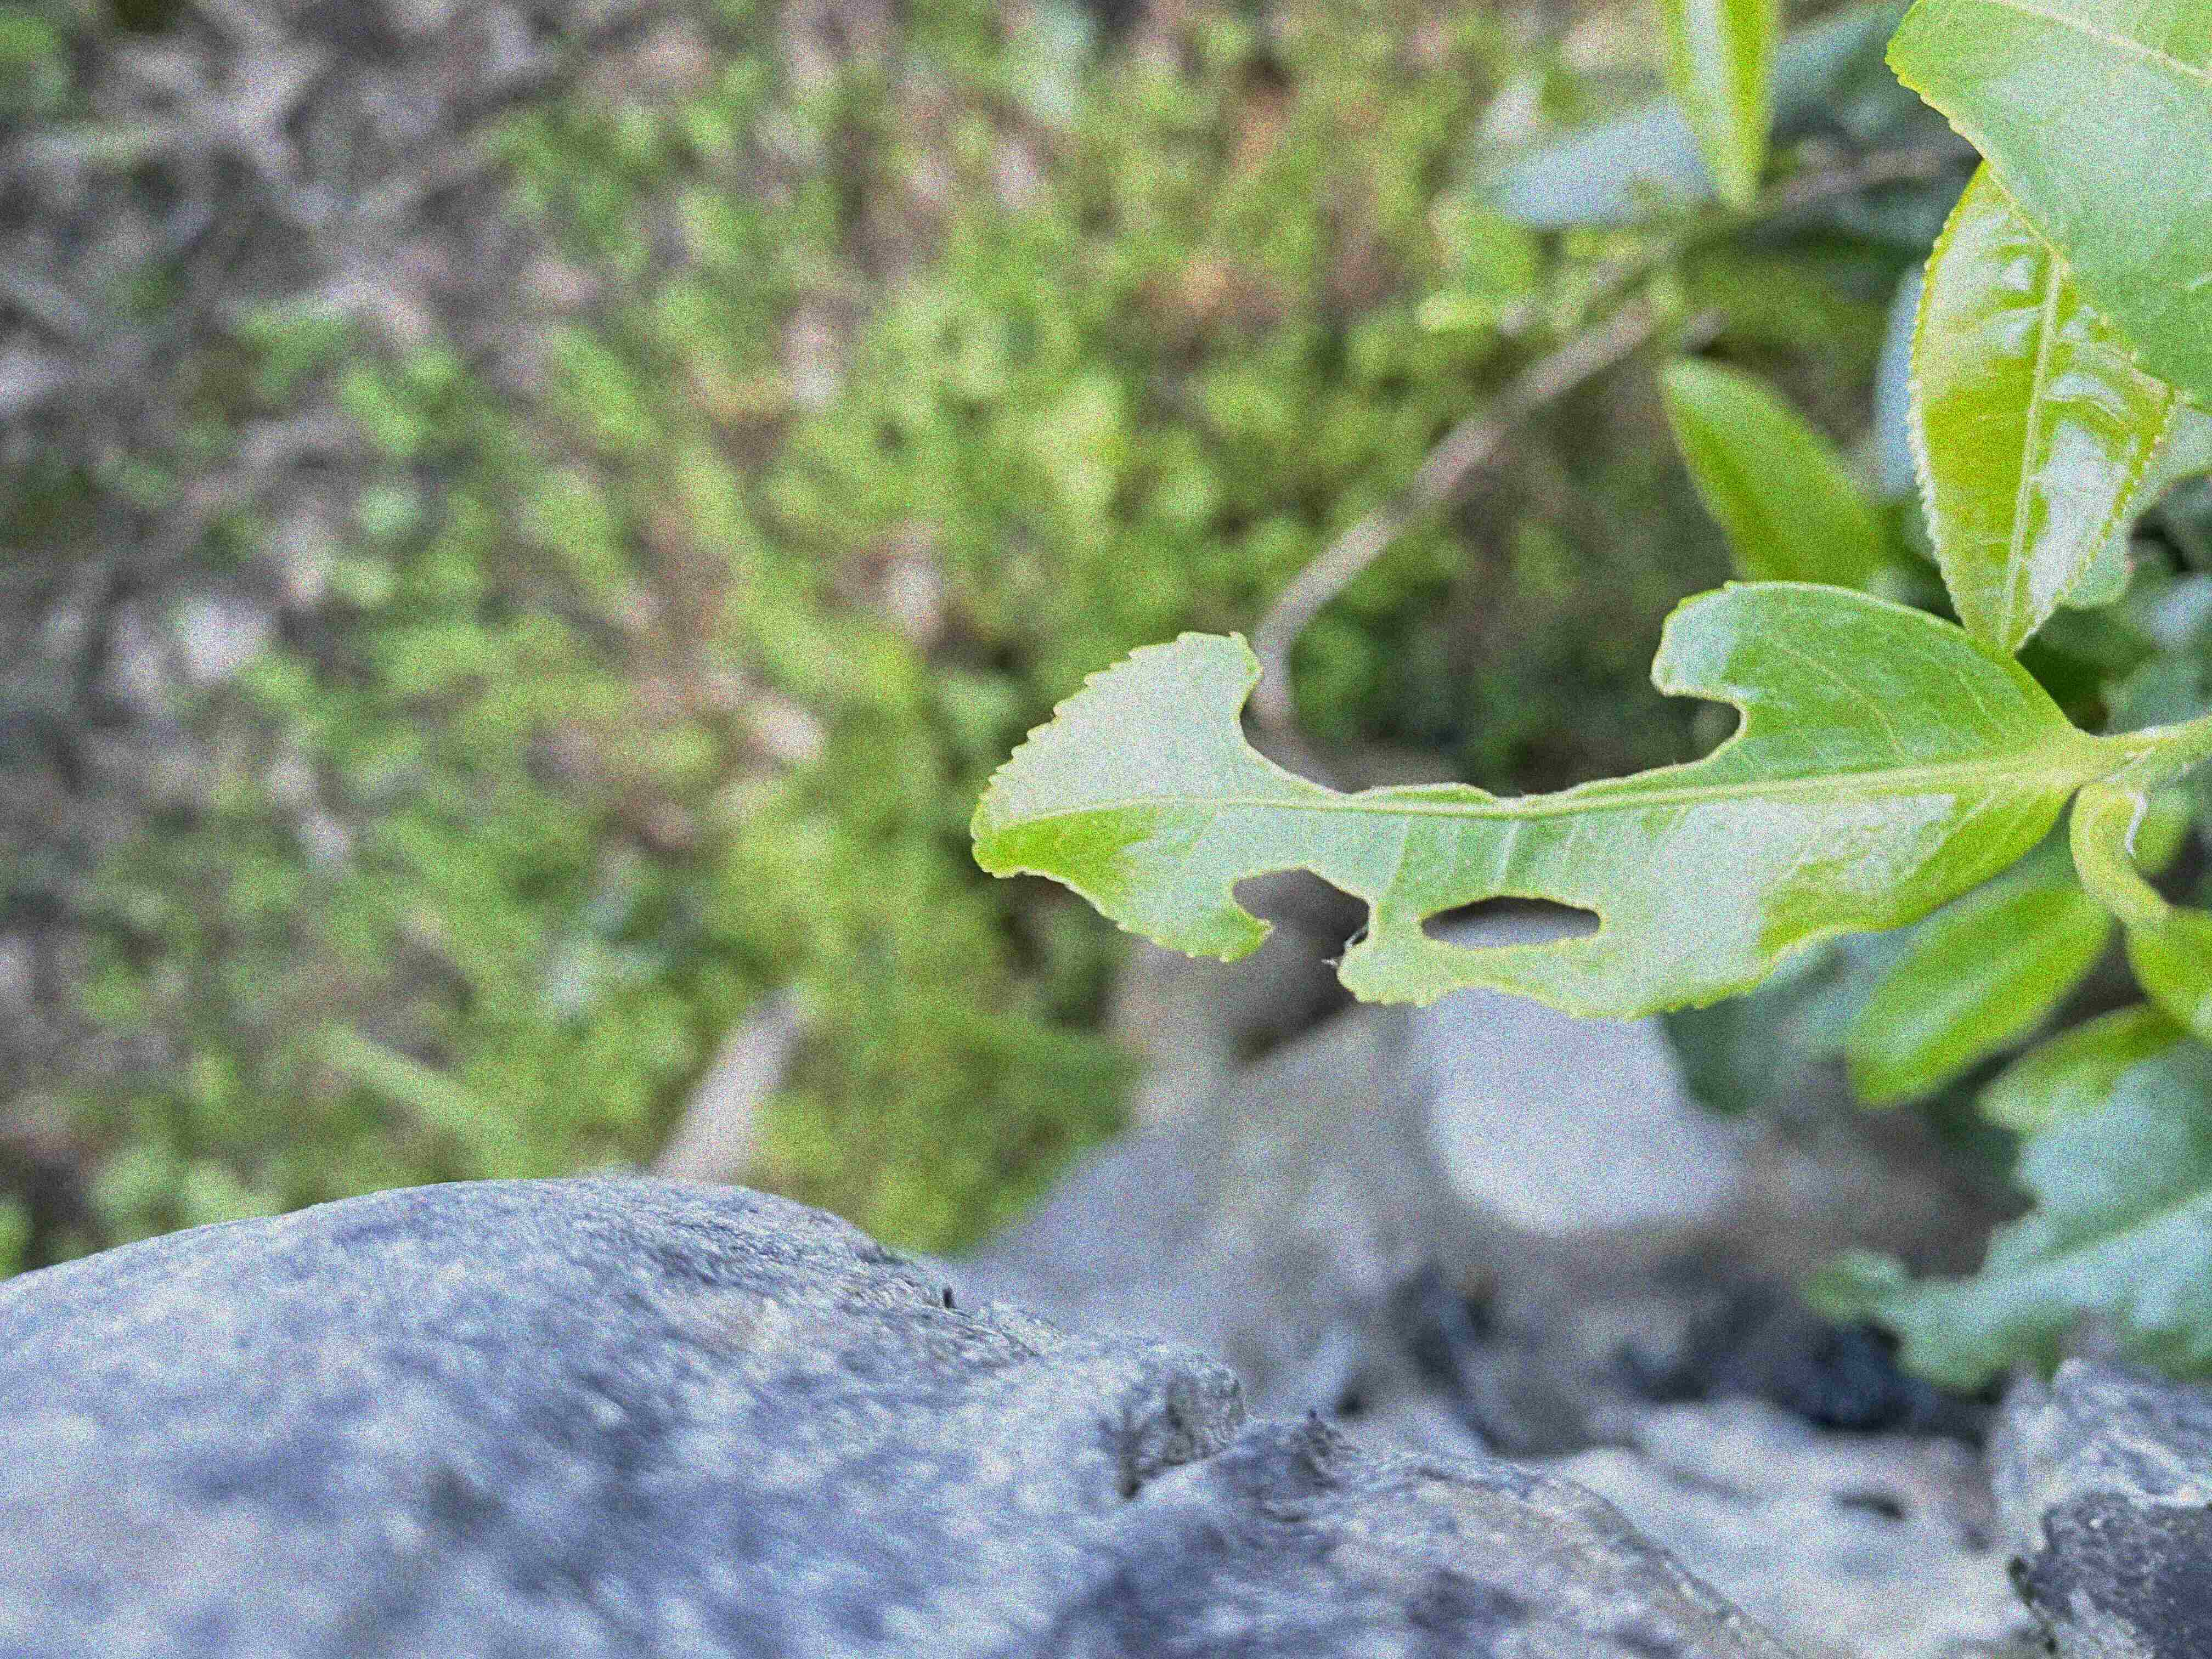chihuo_high: (968, 577, 2081, 1025)
healthy: (1885, 2, 2212, 415), (1904, 162, 2175, 650)
